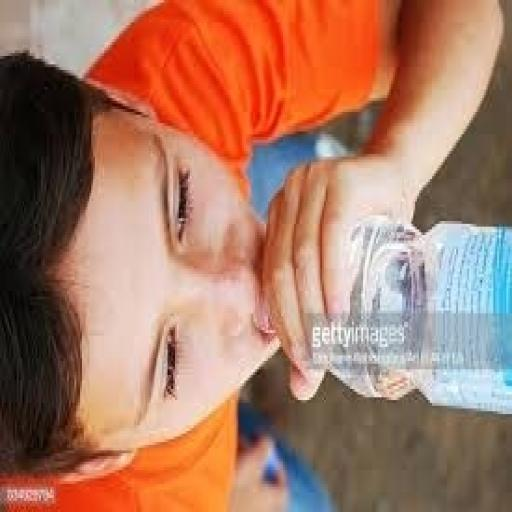drinking: (300, 213, 510, 414)
